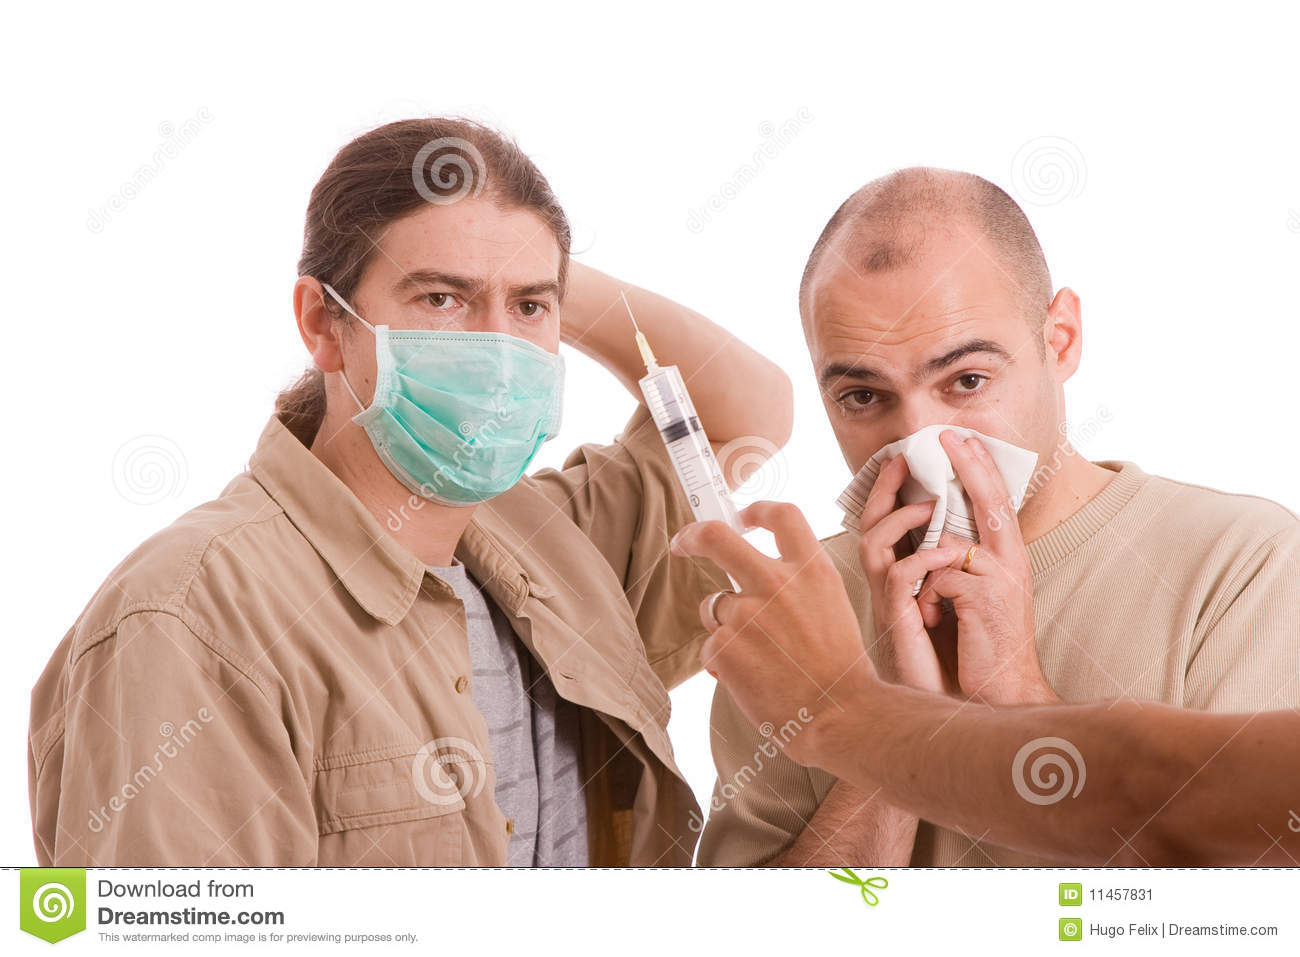mask: (373, 324, 556, 499)
